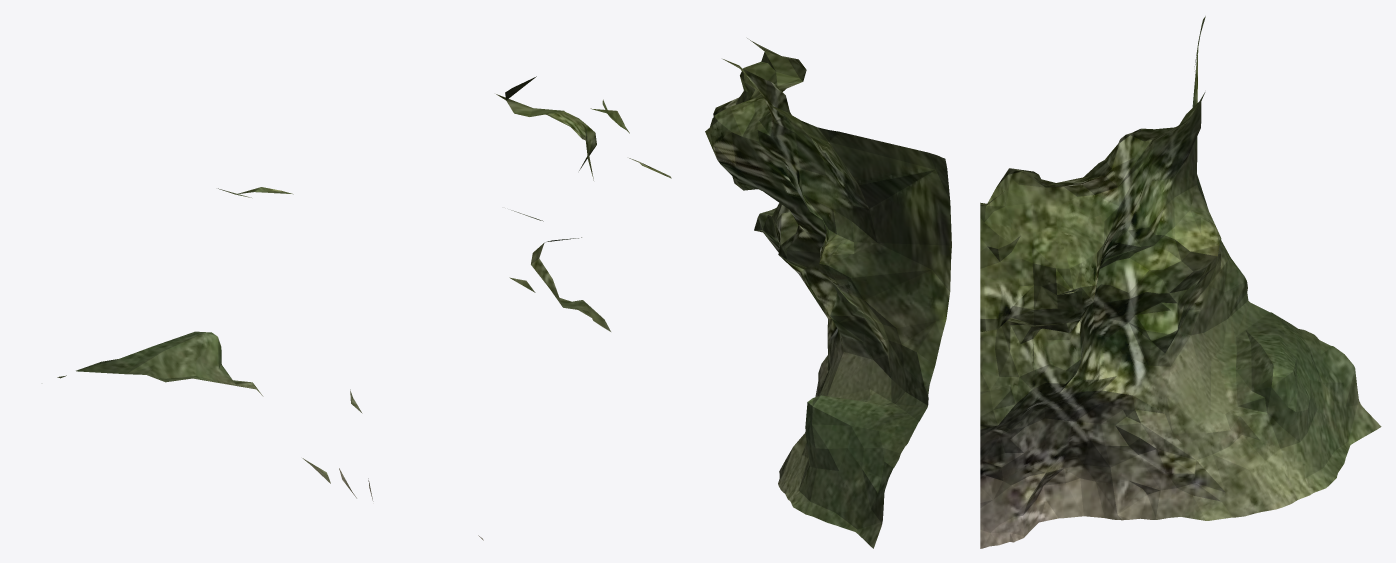
3 views of the same model, side by side, from view 1: azimuth 30°, elevation 25°; view 2: azimuth 150°, elevation 25°; view 3: azimuth 270°, elevation 25° (orthographic). The views are drawn at different scales.
Size of the model in its own units: 2.95 by 2.95 by 2.6.
3 materials, 3 textured.
